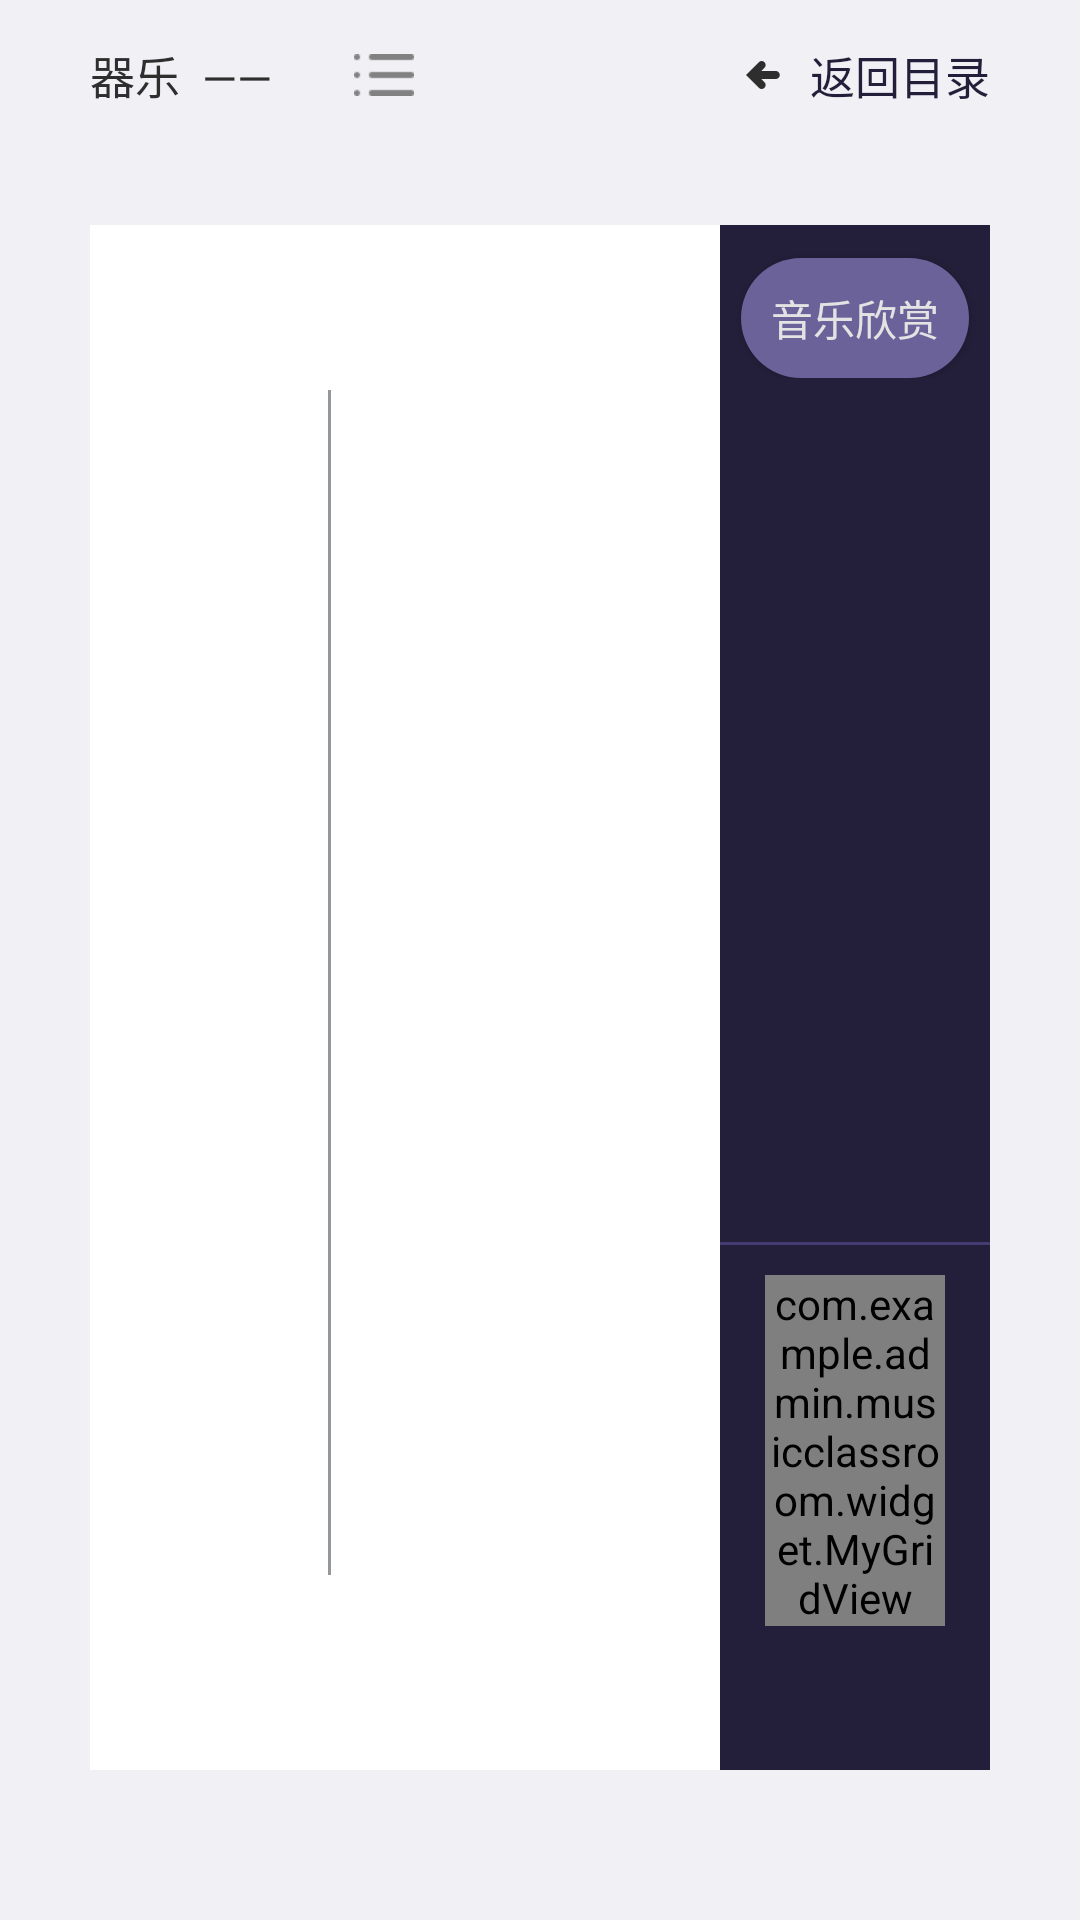

Named icons in this screenshot (1080 × 1920) and their centers, [x,y]:
left: [763,75]
list: [384,75]
